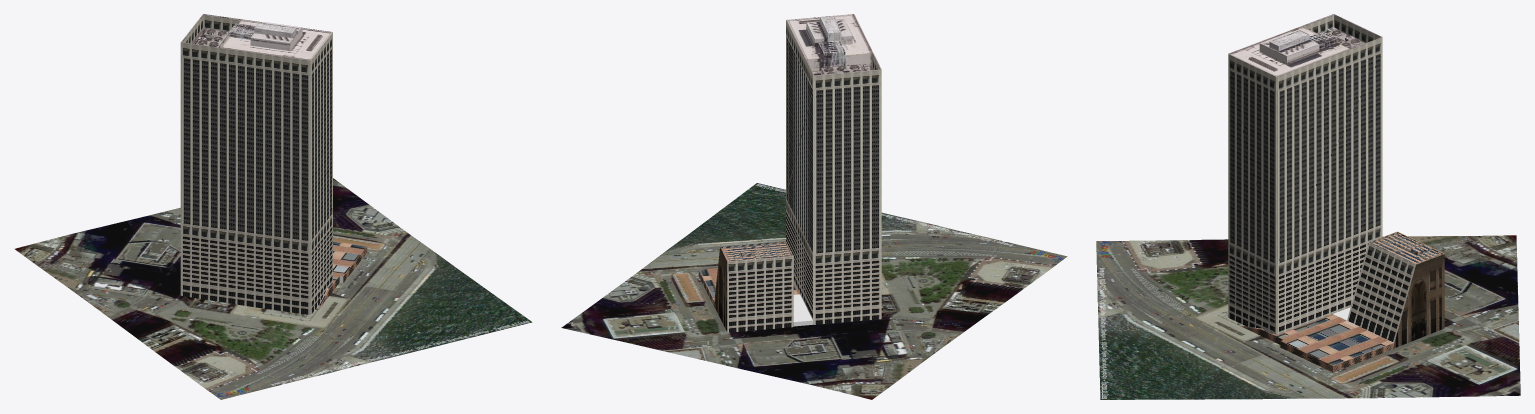
Rendered from qwer.fbx.
The picture shows the model from 3 angles, left to right: view 1: azimuth 30°, elevation 25°; view 2: azimuth 150°, elevation 25°; view 3: azimuth 270°, elevation 25°; orthographic projection. The views are drawn at different scales.
Parts seen in each view (by area): view 1: Google_Earth_Terrain, G_55_Water_Street1; view 2: Google_Earth_Terrain, G_55_Water_Street1; view 3: G_55_Water_Street1, Google_Earth_Terrain.
Part boxes in pixels (x1,y1,x2,y2): Google_Earth_Terrain: (15,178,532,399); G_55_Water_Street1: (180,14,367,314); Google_Earth_Terrain: (561,183,1067,399); G_55_Water_Street1: (698,14,881,332); G_55_Water_Street1: (1228,14,1444,372); Google_Earth_Terrain: (1096,235,1520,399).
Bounding box in the file's own units: 10623 × 8573 × 11866.
